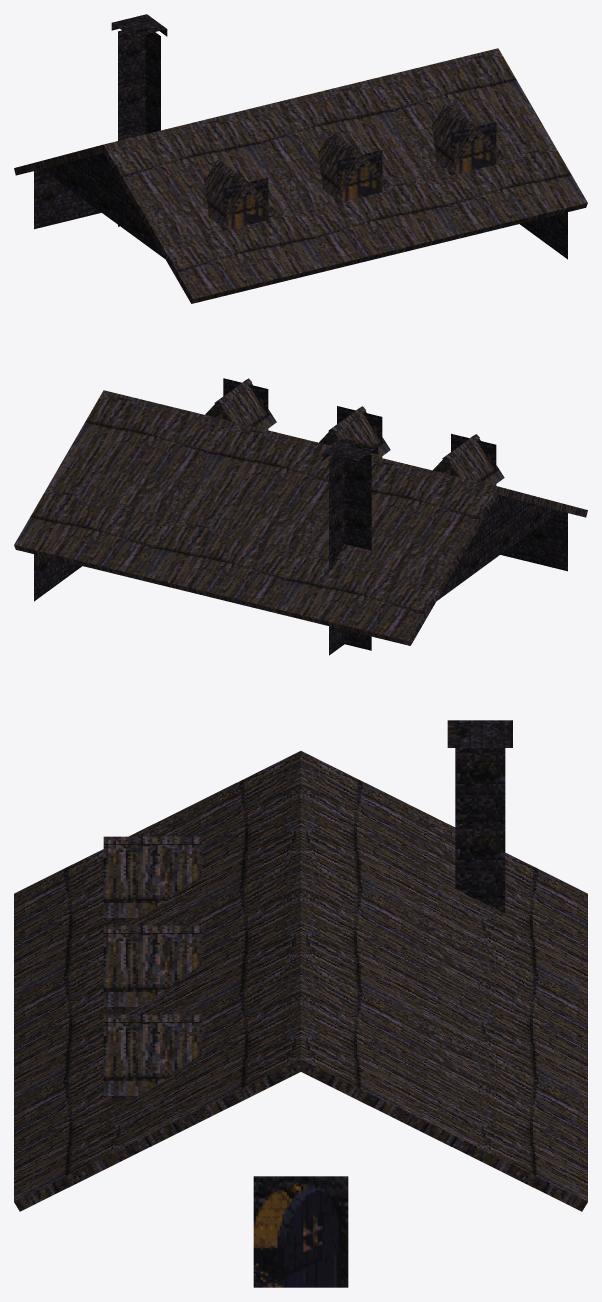
The picture shows the model from 3 angles, top to bottom: view 1: azimuth 30°, elevation 25°; view 2: azimuth 150°, elevation 25°; view 3: azimuth 270°, elevation 25°; orthographic projection. The views are drawn at different scales.
Parts seen in each view (by area): view 1: b_46_40; view 2: b_46_40; view 3: b_46_40.
Boxes of the visible parts, box(x1,y1,x2,y2) form: b_46_40: box(14, 14, 587, 303); b_46_40: box(14, 378, 587, 655); b_46_40: box(14, 720, 587, 1287).
Bounding box in the file's own units: 13.1 × 6.45 × 10.3.
4 materials, 4 textured.
